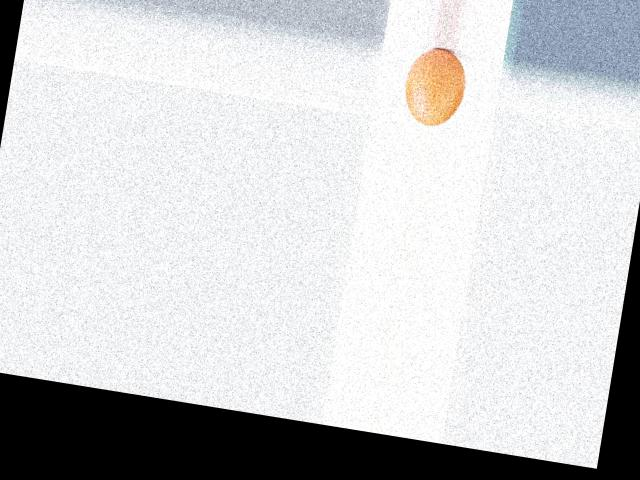egg: (400, 44, 471, 129)
